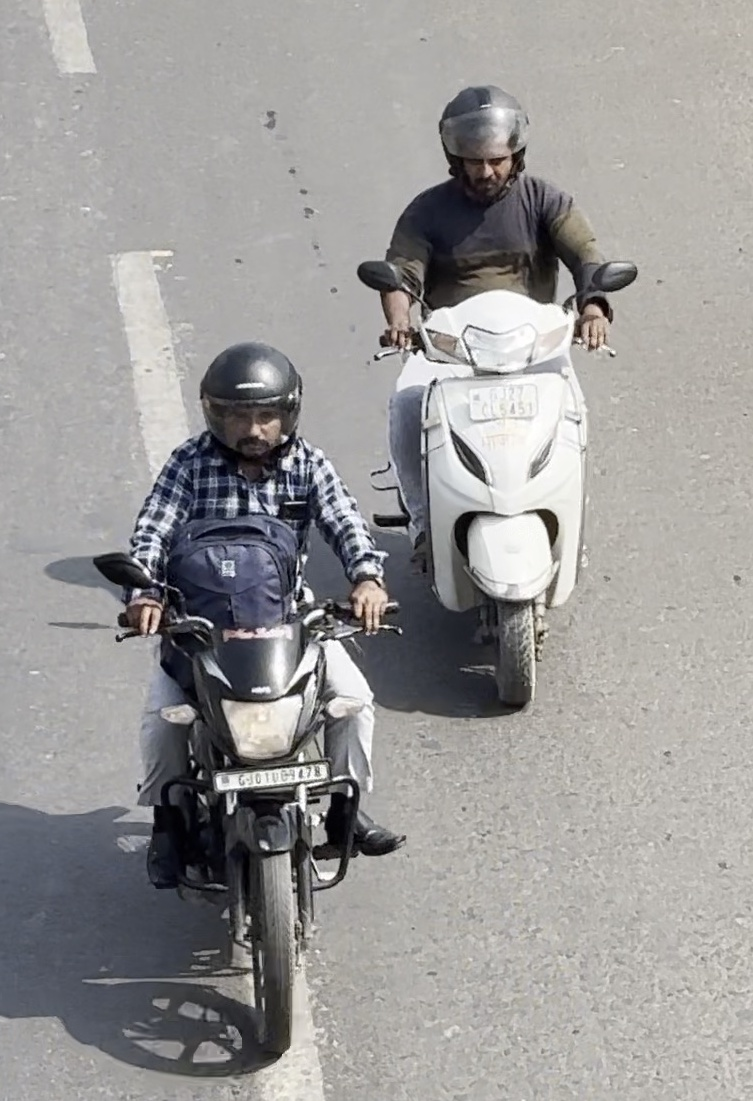BikeWithRider: (88, 338, 408, 1068), (355, 81, 637, 712)
Helmet: (194, 340, 312, 470), (433, 82, 533, 199)
